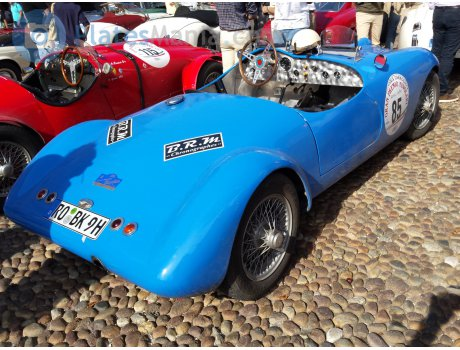License Plates: (54, 202, 97, 226)
